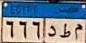6: (31, 20, 43, 38), (18, 20, 29, 39), (5, 20, 16, 39)
Taa: (59, 21, 72, 39)
daal: (47, 24, 57, 39)
meem: (74, 22, 83, 41)
